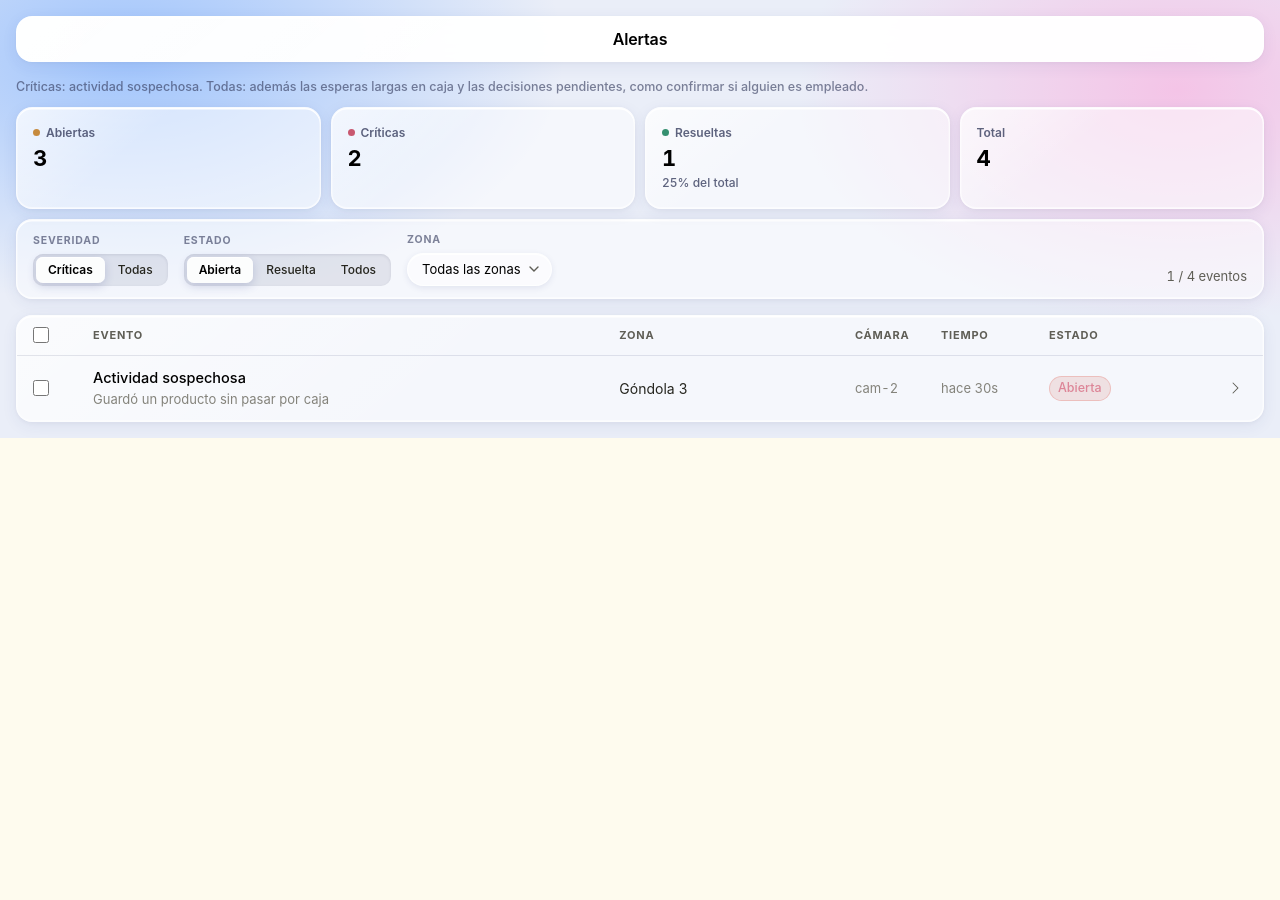
it: selección › de a una, y "seleccionar todas" queda a medias
Expected: the text "Actividad sospechosa" is shown, [93,369,246,386]
Click the button "Todas": (135, 270) [106,257,165,283]
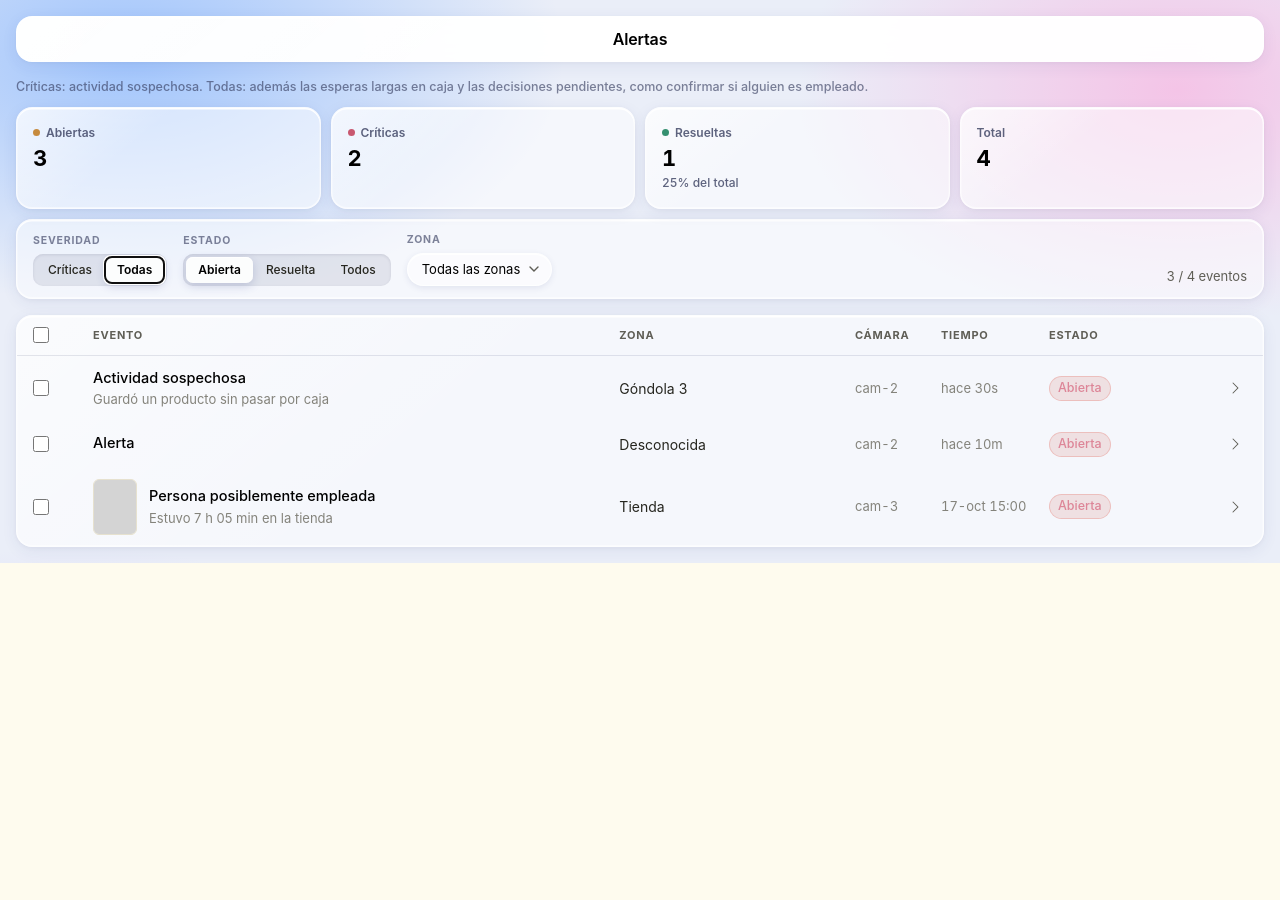
Click the button "Todos": (358, 270) [328,257,388,283]
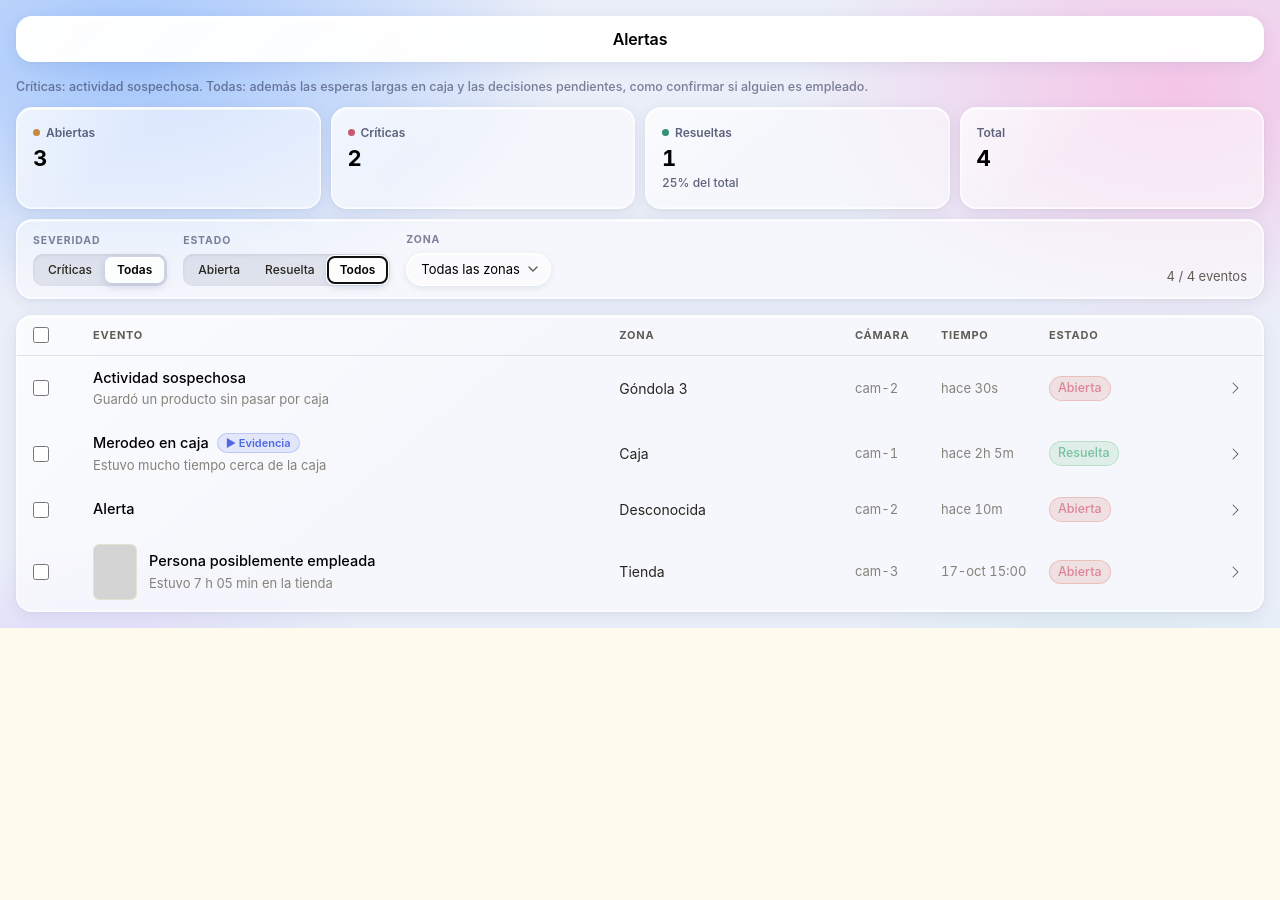
Click the checkbox named "Seleccionar Actividad sospechosa": (41, 388) [33,380,49,396]
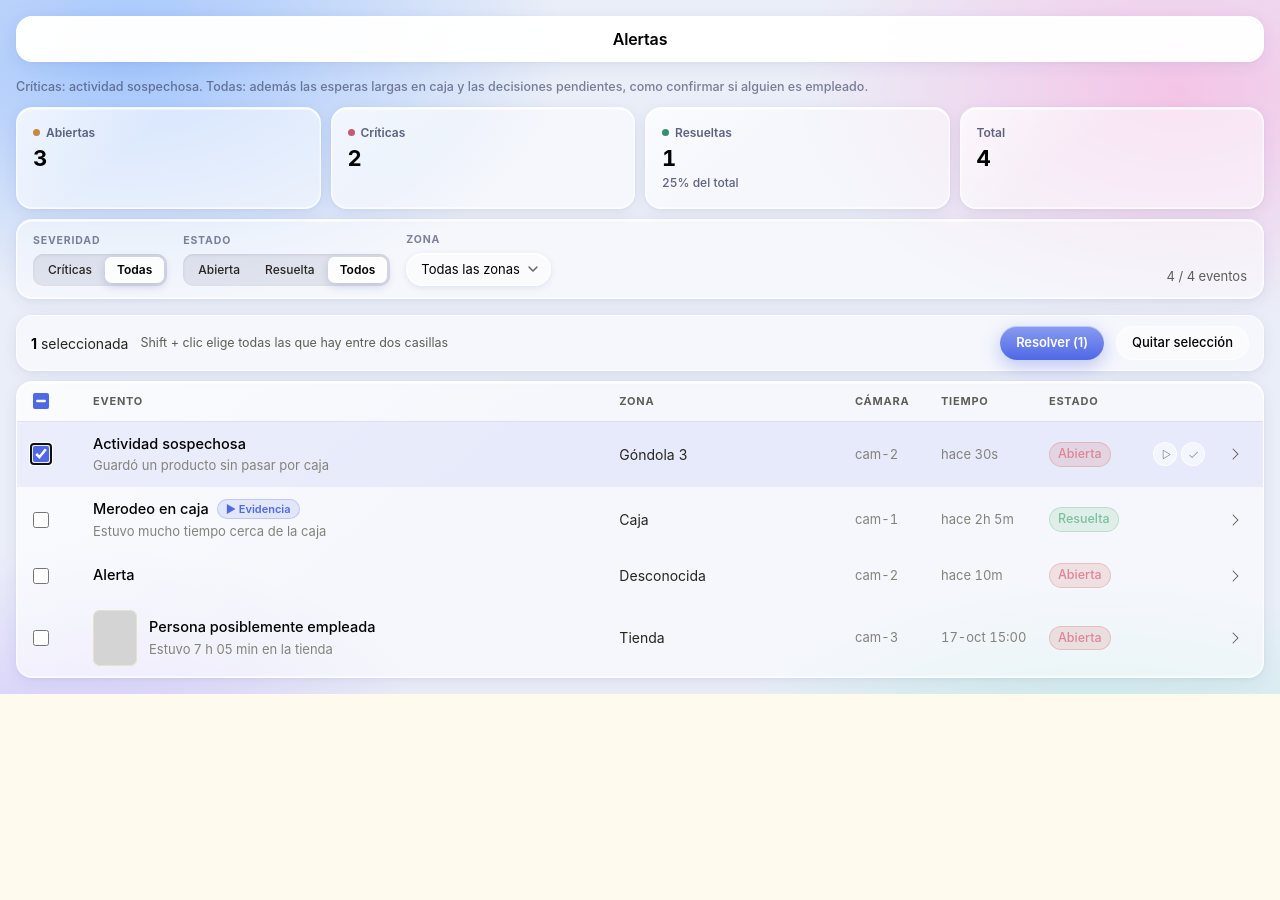
Expected: the checkbox named "Seleccionar todas" is not checked, [33,393,49,409]
Expected: the element named "Alertas seleccionadas" shows "1 seleccionada", [16,315,1264,371]
